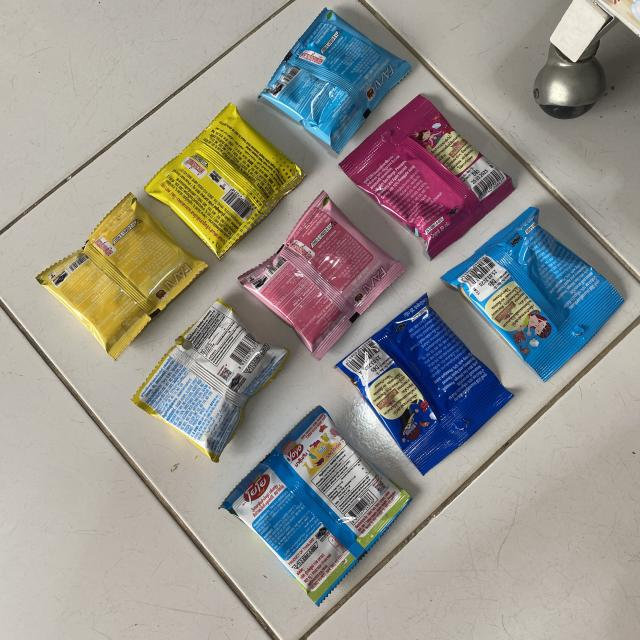plastik: (221, 406, 410, 605), (336, 294, 512, 474), (442, 208, 624, 380), (340, 95, 514, 259), (36, 194, 206, 359), (239, 191, 405, 359), (132, 299, 290, 461), (145, 104, 305, 258), (260, 9, 411, 154)
